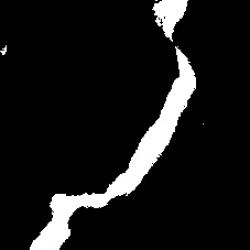crack: (30, 2, 197, 247)
